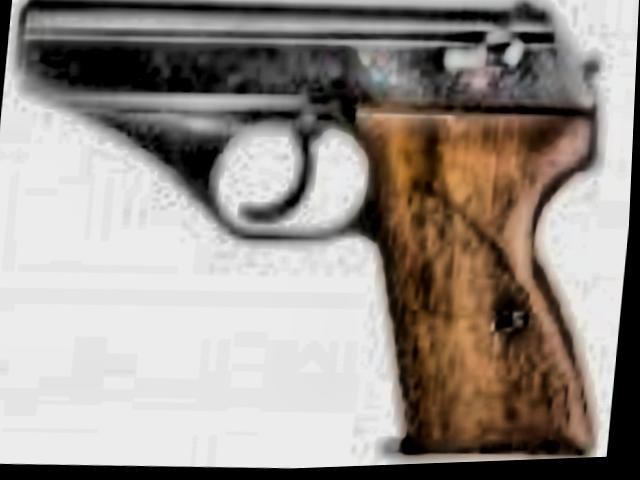pistol: (0, 0, 628, 479)
